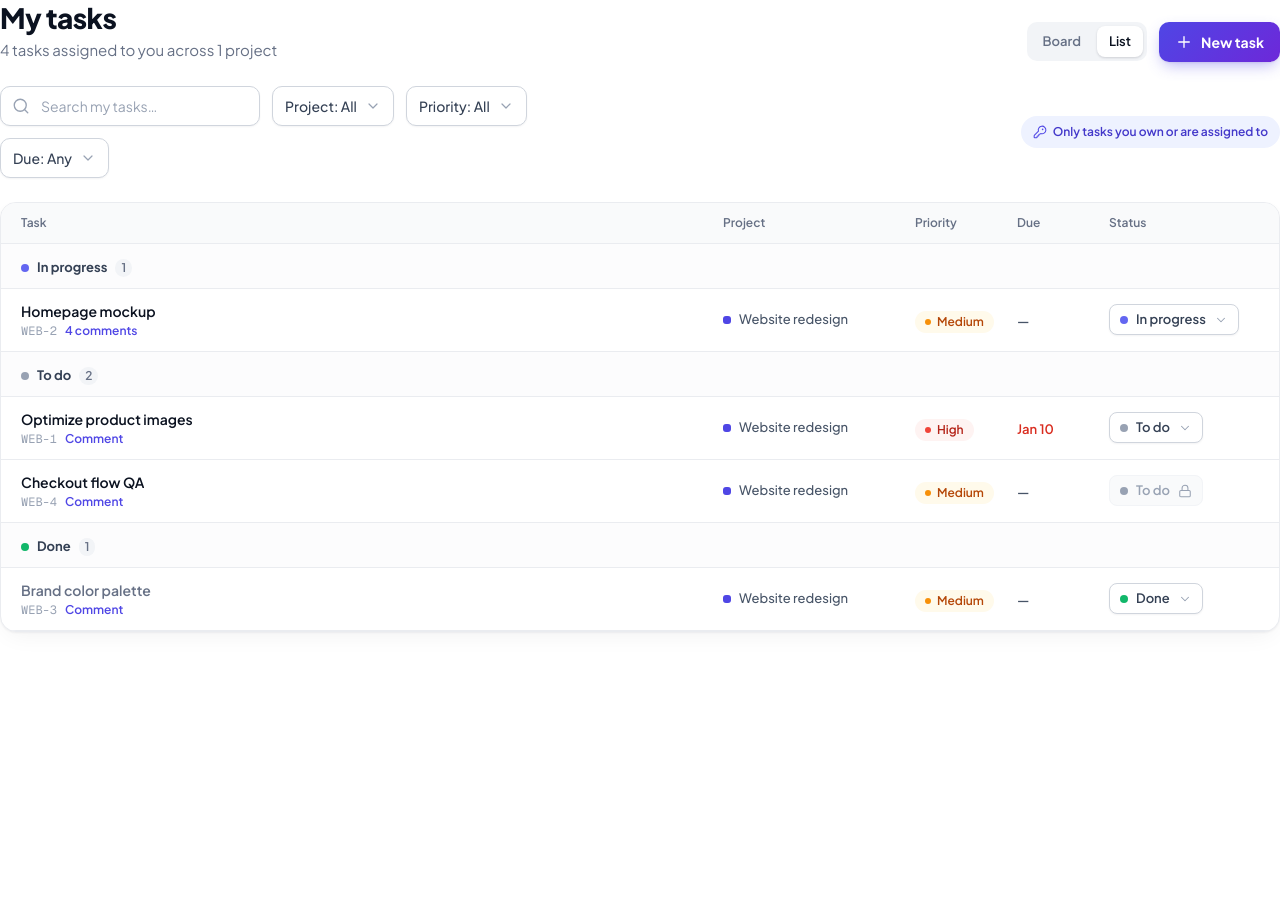
My tasks › views › opens a task from the list
Click the button "Homepage mockup WEB-2 4 comments" at (88, 320), box top-left (21, 300), bottom-right (156, 338)
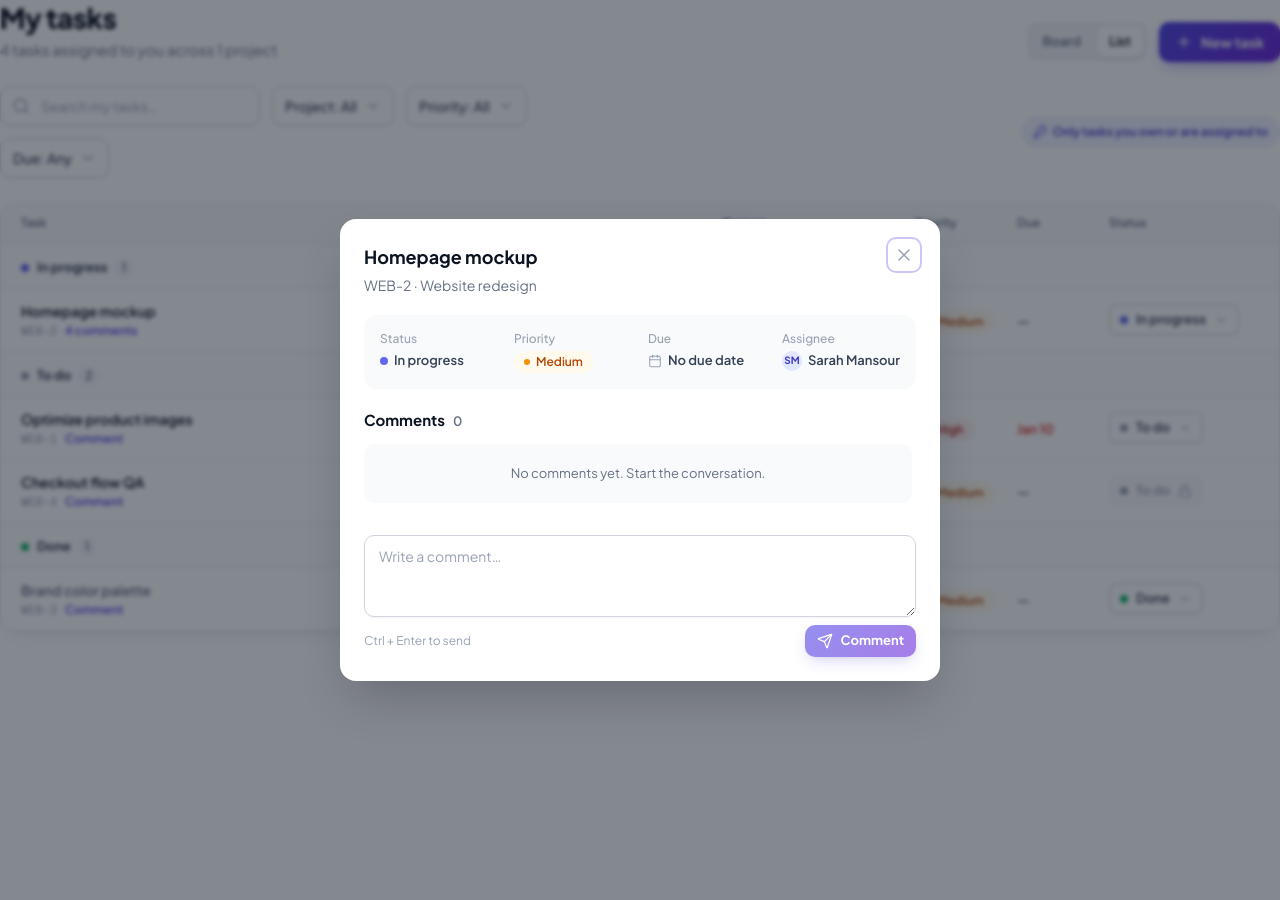
expect the dialog "Homepage mockup" is shown: met, box top-left (340, 219), bottom-right (940, 681)
